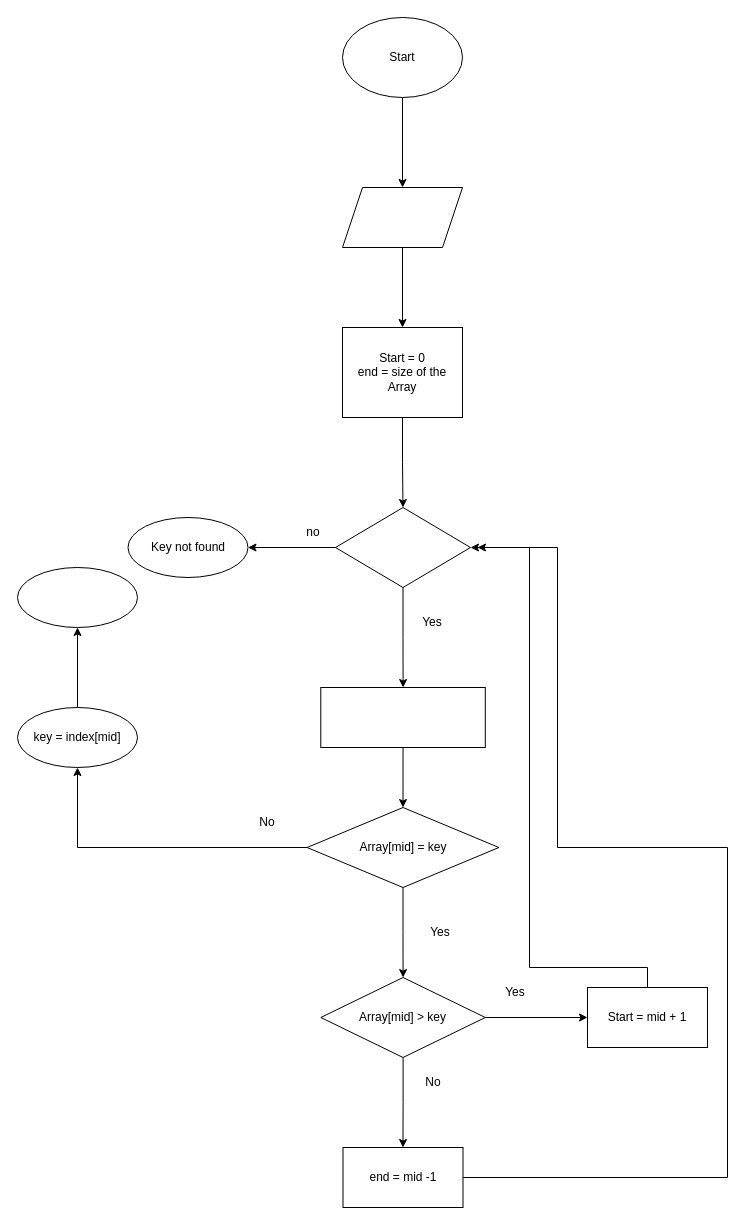
The diagram is 753 pixels wide and 1225 high, and some of its shapes have lost their labels. The shapes that lost their labels are listed below. From the top down, each one's centre as x and y in pixels, then its label:
At (402,217): "Sort Array".
At (402,547): "Start <= end".
At (77,597): "End".
At (402,717): "mid = (start + end) / 2".
